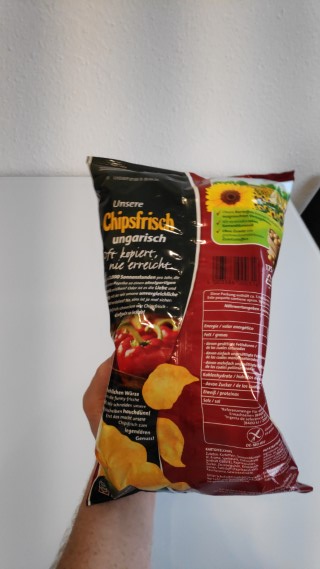chipsfrisch: (86, 155, 315, 502)
